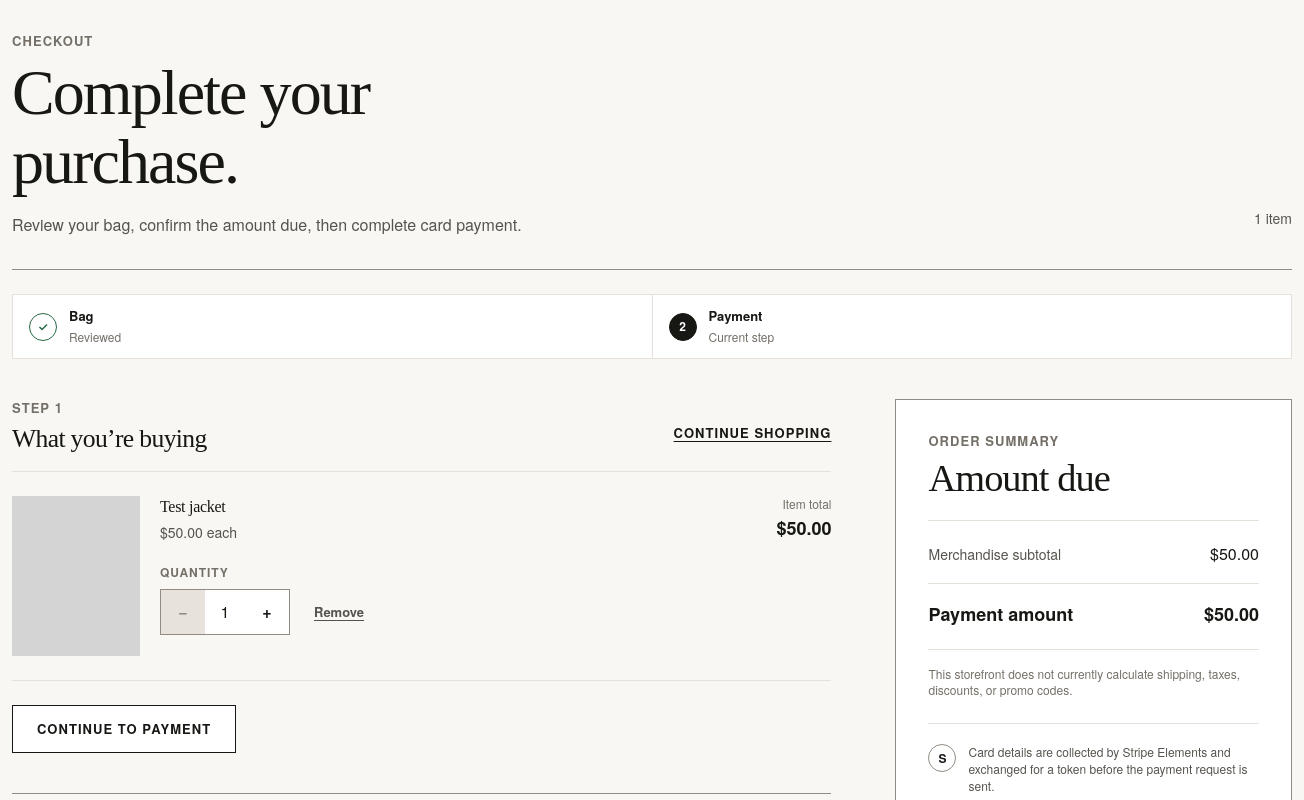
updates quantities and totals, then explicitly removes an item
Check: the text "$50.00" is shown 2 times, box [1210,541,1259,567]; [1204,600,1259,629]
Click the button named "Increase test jacket quantity": click(267, 612) [245,590,289,634]
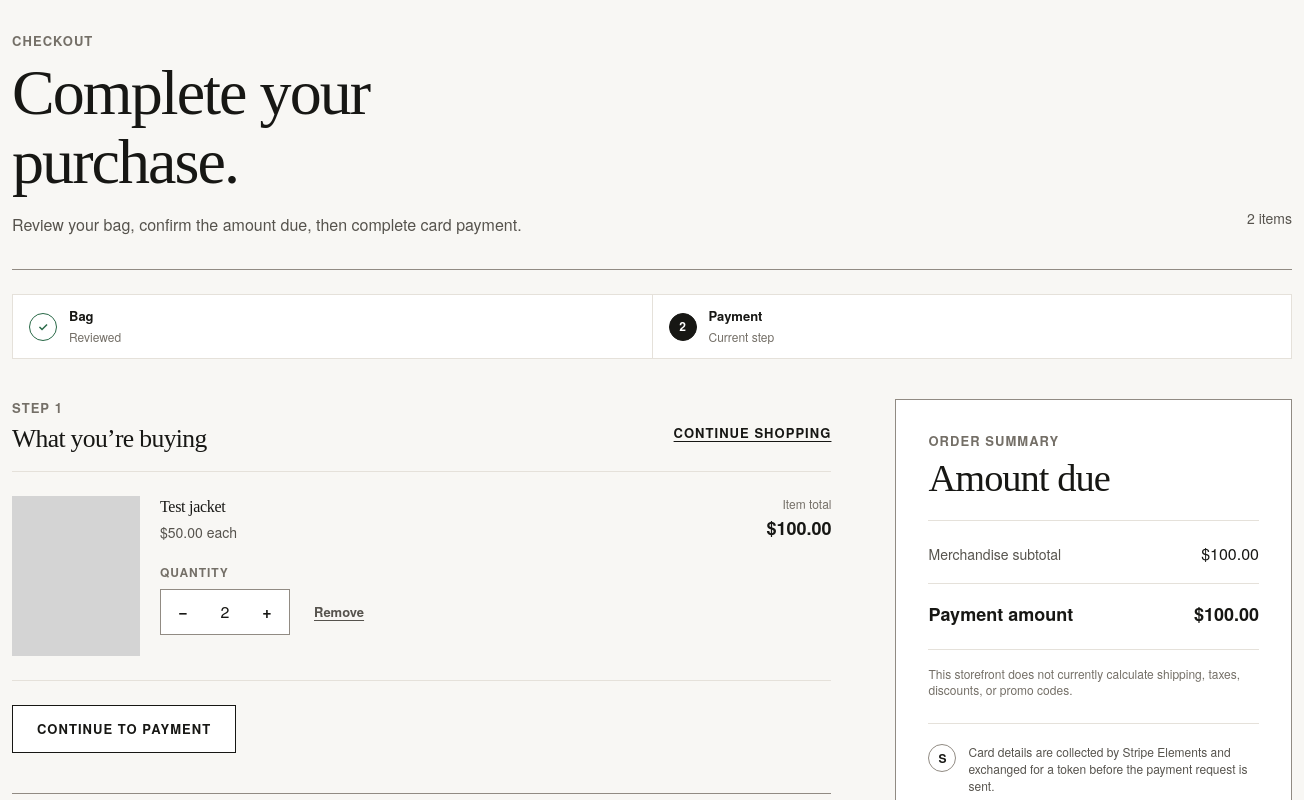
Check: the text "$100.00" is shown 2 times, box [1201,541,1259,567]; [1194,600,1259,629]
Click the button named "Decrease test jacket quantity": click(183, 612) [161,590,205,634]
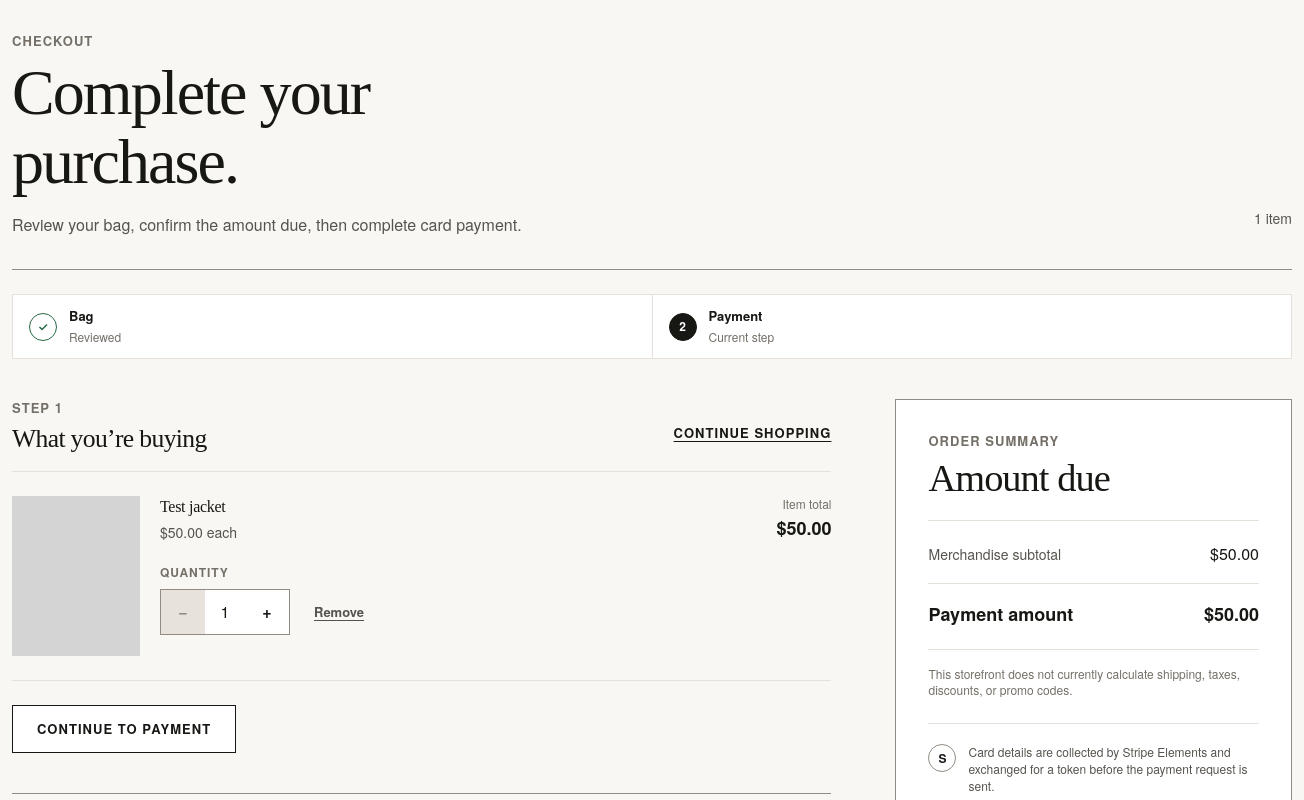
Check: the button named "Decrease test jacket quantity" is disabled, box [161,590,205,634]
Click the button named "Remove Test jacket from bag": click(339, 613) [314,591,364,635]
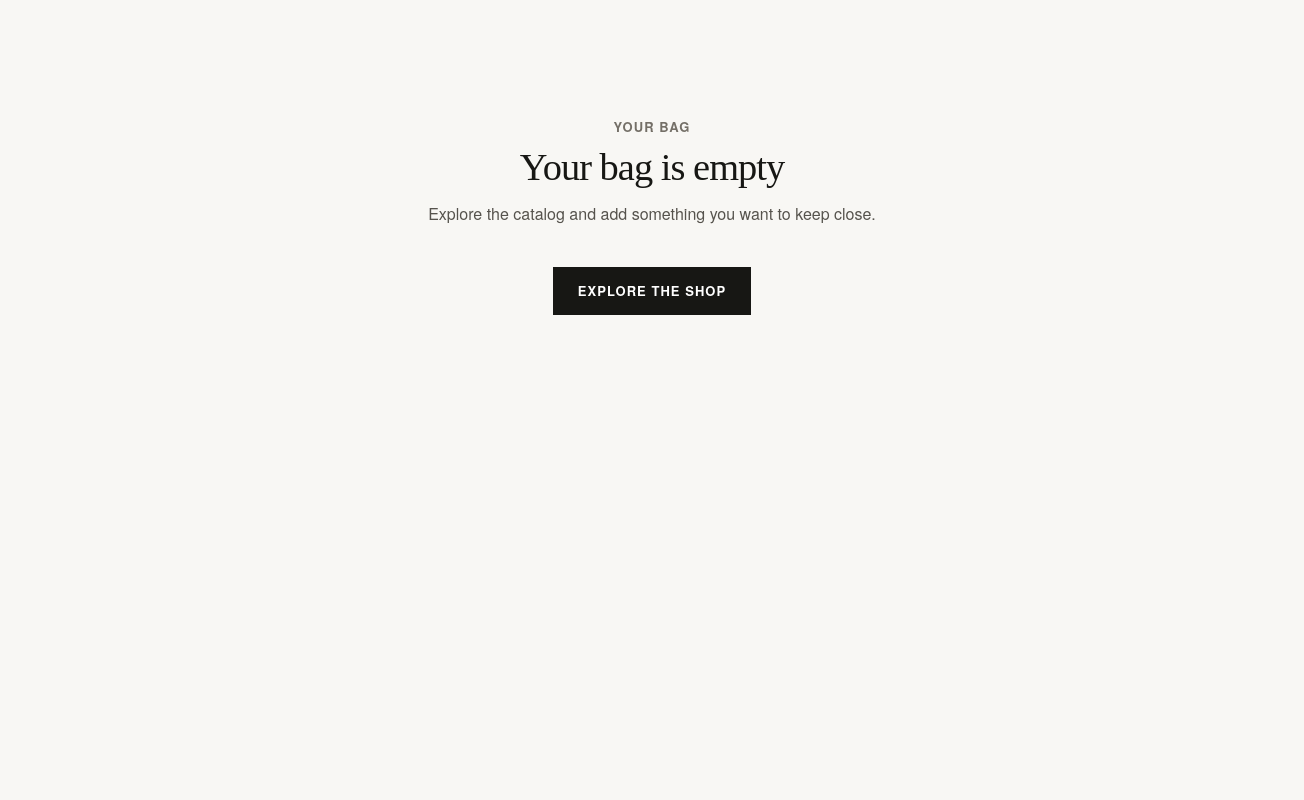
Check: the heading "Your bag is empty" is shown, box [520,146,784,188]
